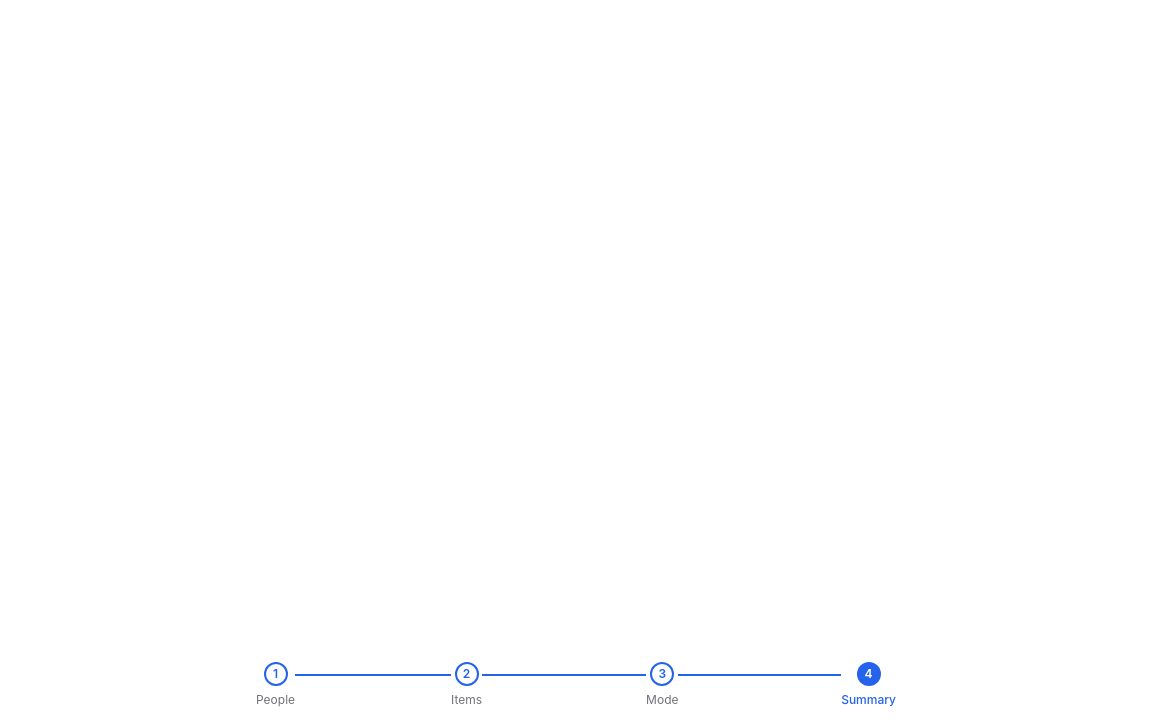
Scenario: StepBar › cancelling the confirm modal leaves the step unchanged
Click the button named "Step 1: People".
click(276, 685)  # box [256, 662, 295, 708]
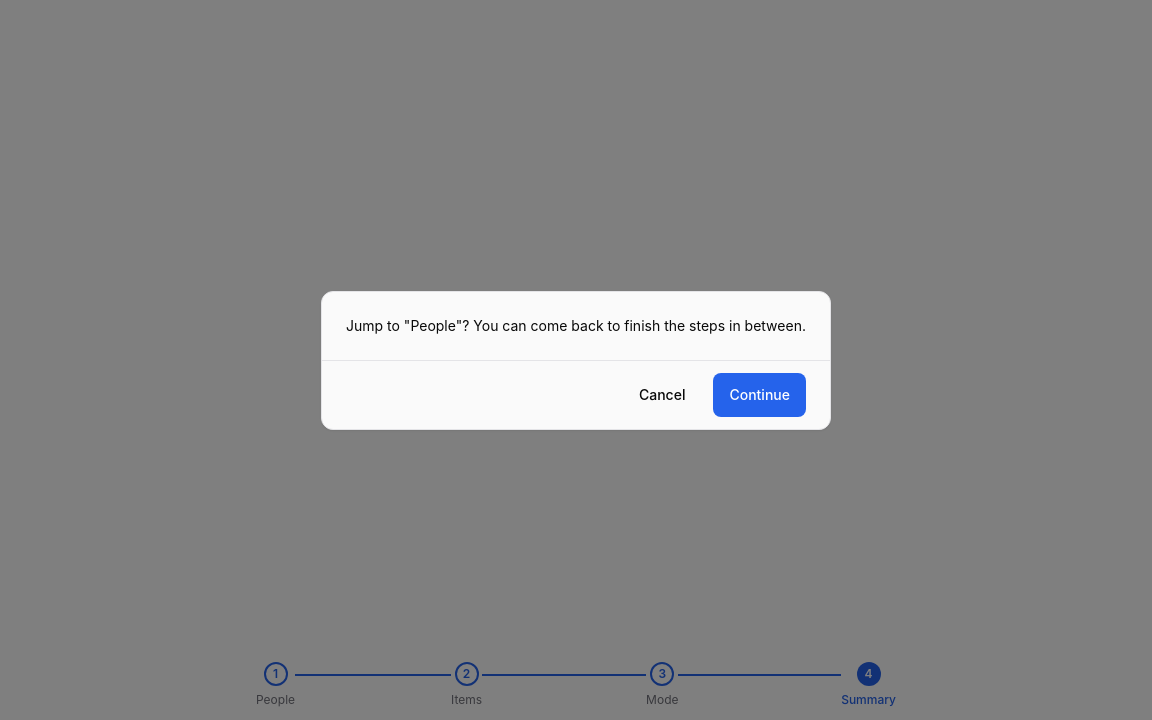
Click the button "Cancel".
click(662, 394)  # box [623, 372, 702, 416]
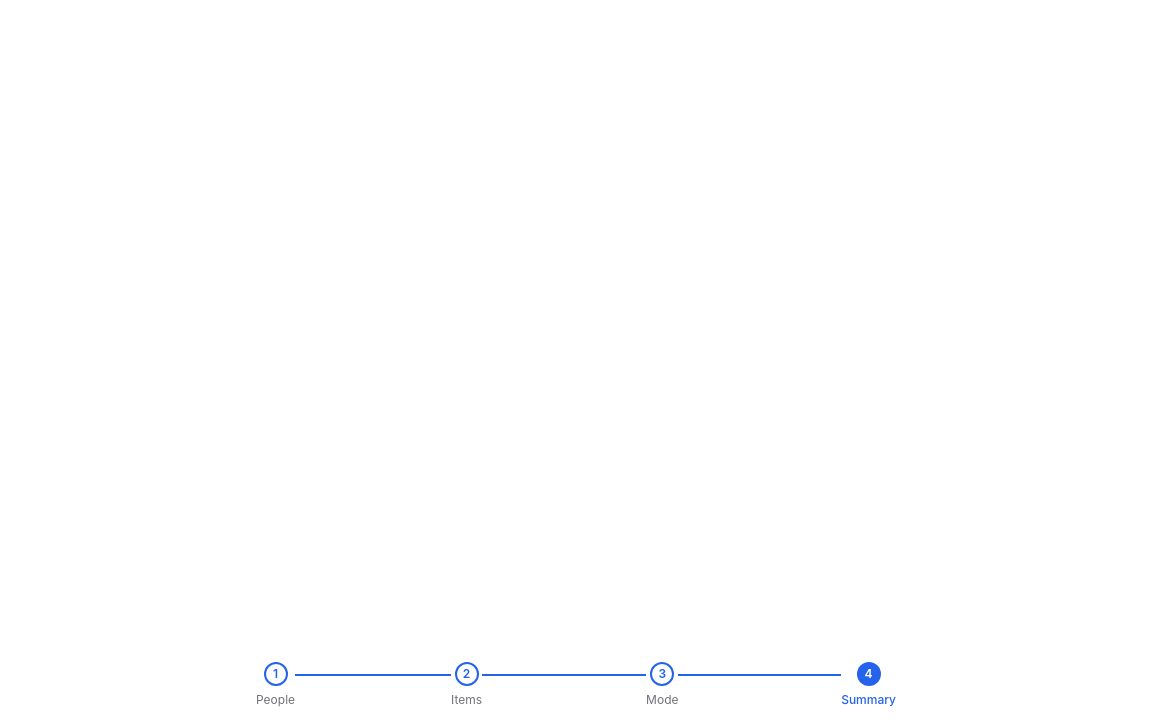
Check: the dialog is gone
